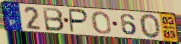2: (24, 6, 43, 31)
6: (120, 14, 138, 37)
B: (42, 6, 66, 33)
O: (139, 13, 162, 40), (91, 11, 113, 35)
P: (69, 8, 90, 34)
